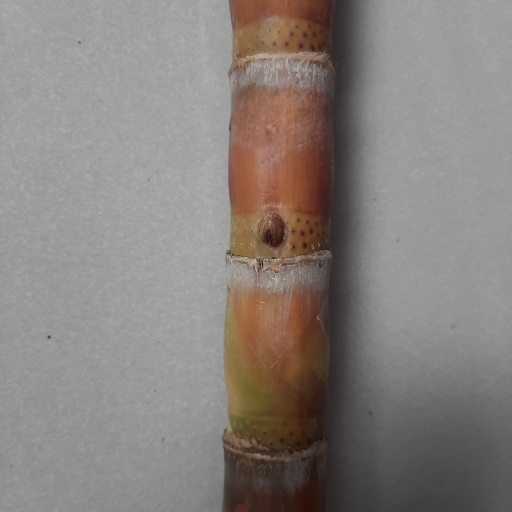Bud: (257, 211, 285, 248)
